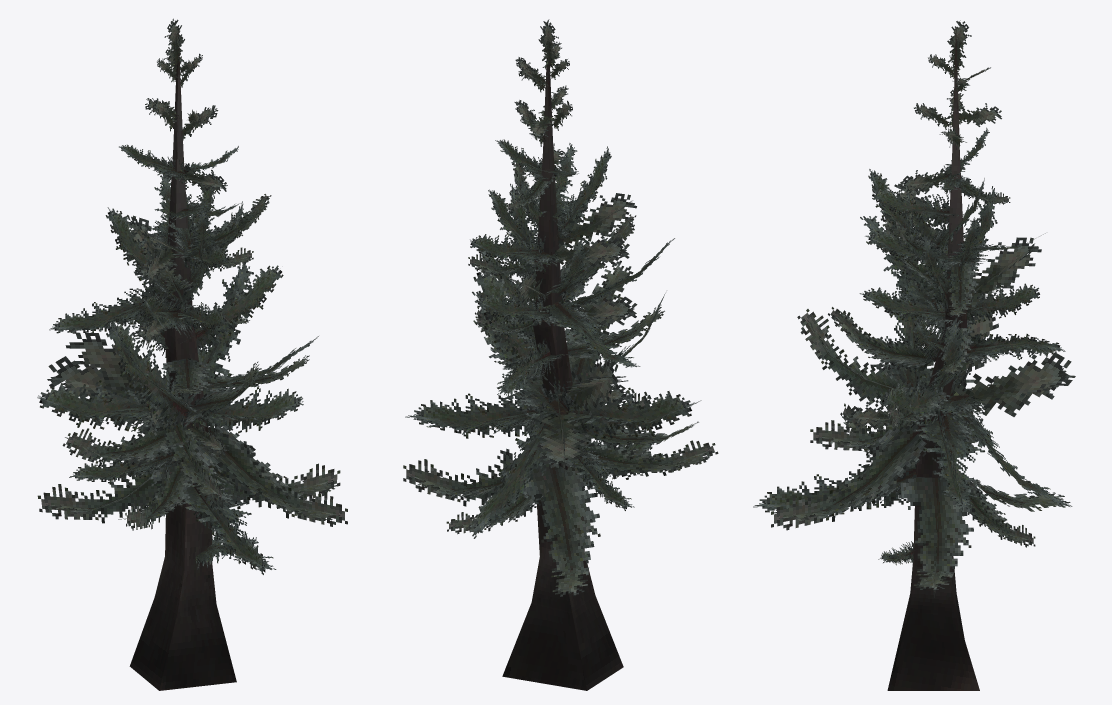
The model's file is pine.glb.
The picture shows the model from 3 angles, left to right: view 1: azimuth 30°, elevation 25°; view 2: azimuth 150°, elevation 25°; view 3: azimuth 270°, elevation 25°; orthographic projection. The views are drawn at different scales.
Visible parts, largest first — view 1: Object_2, Object_3; view 2: Object_2, Object_3; view 3: Object_2, Object_3.
Boxes of the visible parts, x1,y1,x2,y2 form: Object_2: (37,18,347,574); Object_3: (129,28,236,690); Object_2: (403,19,718,596); Object_3: (502,24,623,690); Object_2: (753,20,1075,597); Object_3: (887,28,979,690).
Size of the model in its own units: 5.13 by 10.33 by 4.9.
2 materials, 2 textured.
